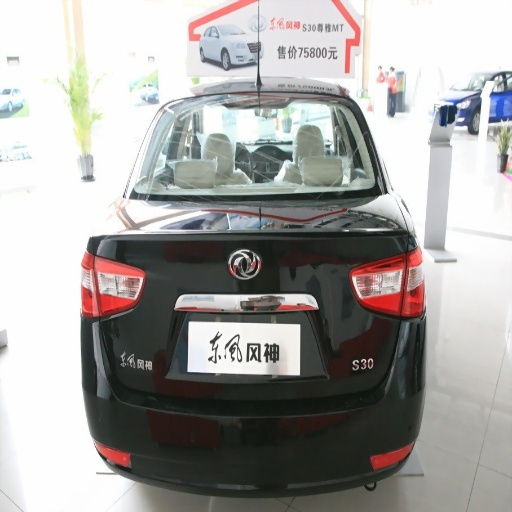back_bumper: (83, 316, 425, 504)
tailgate: (177, 189, 410, 400), (95, 234, 125, 317), (119, 200, 175, 229)
